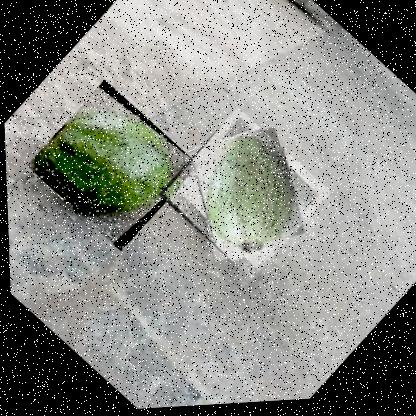guava: (151, 104, 332, 287), (21, 75, 200, 257)
